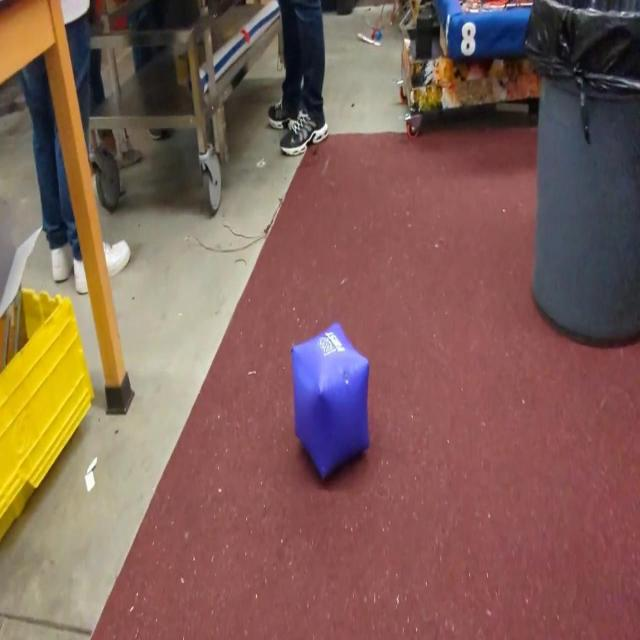frc_cube: (289, 323, 371, 482)
